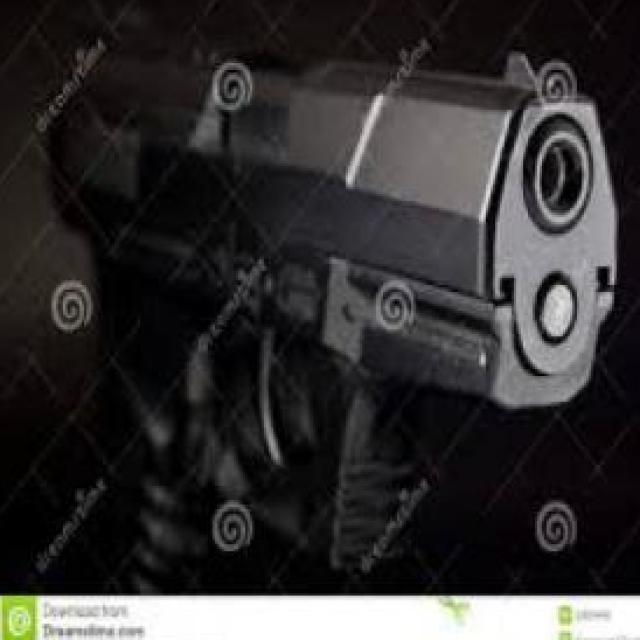pistol: (61, 0, 619, 603)
